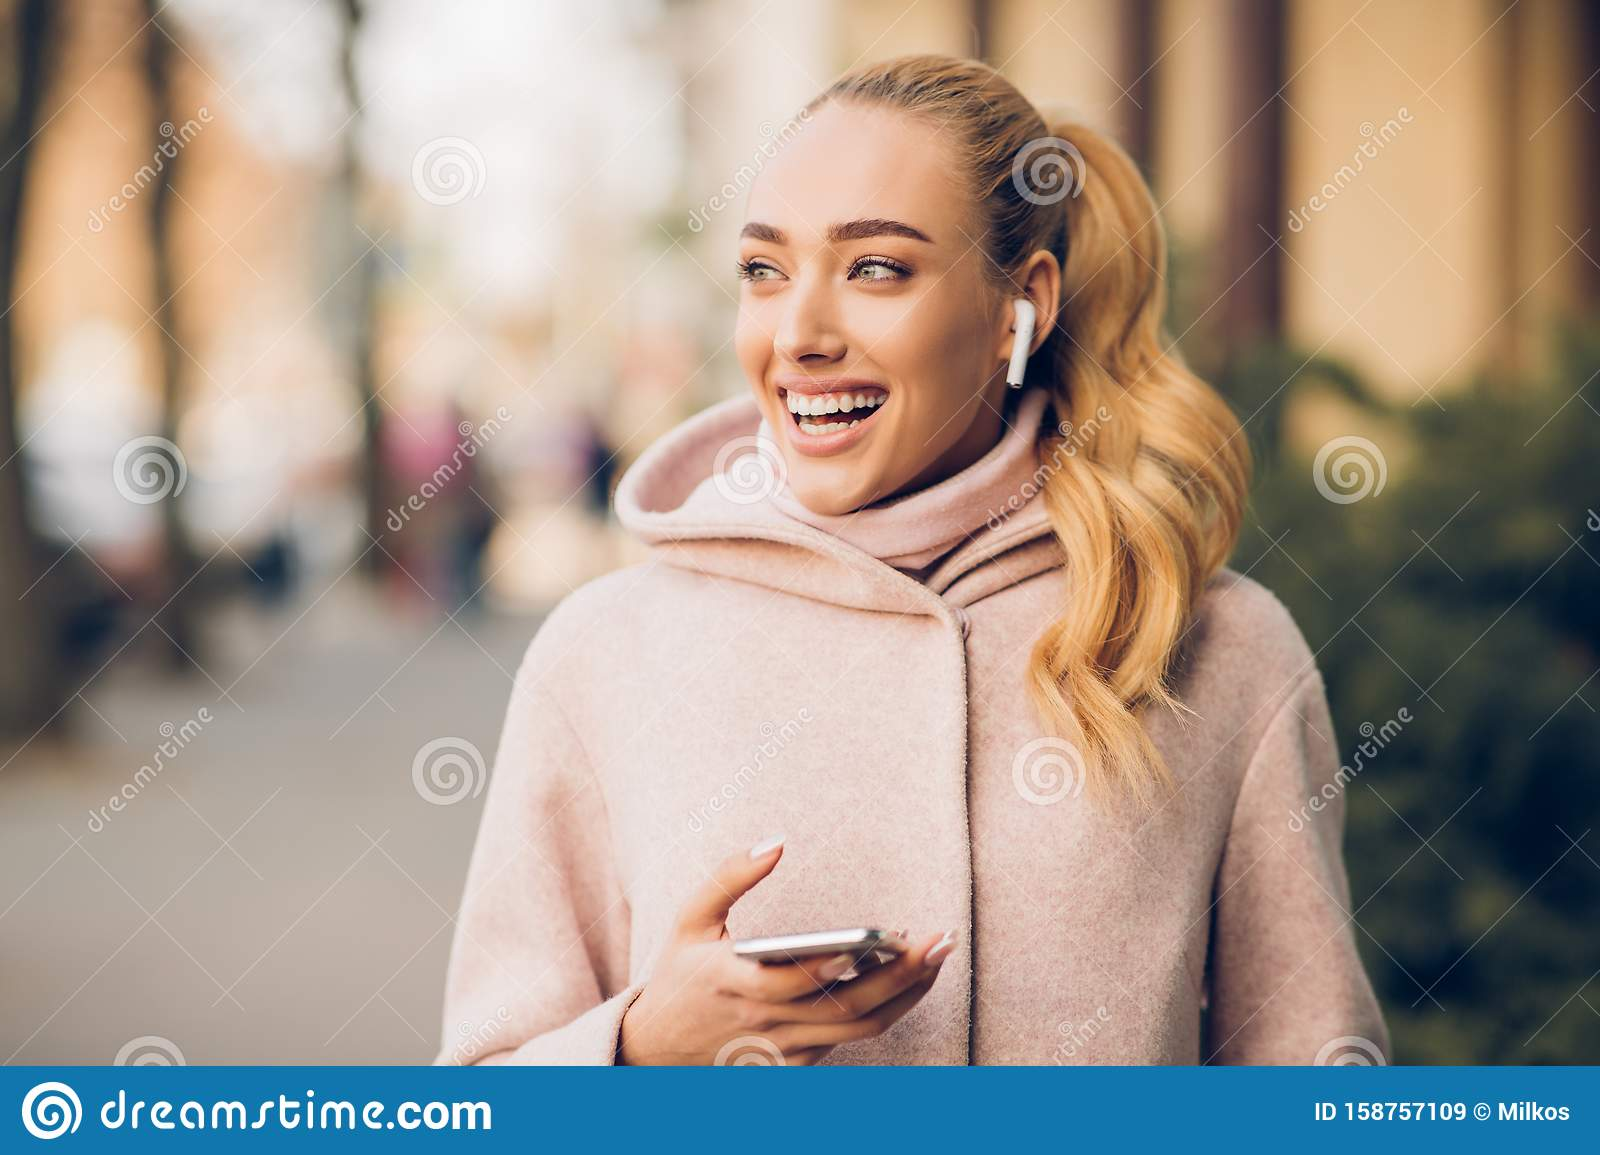earphone: (1001, 248, 1065, 387)
